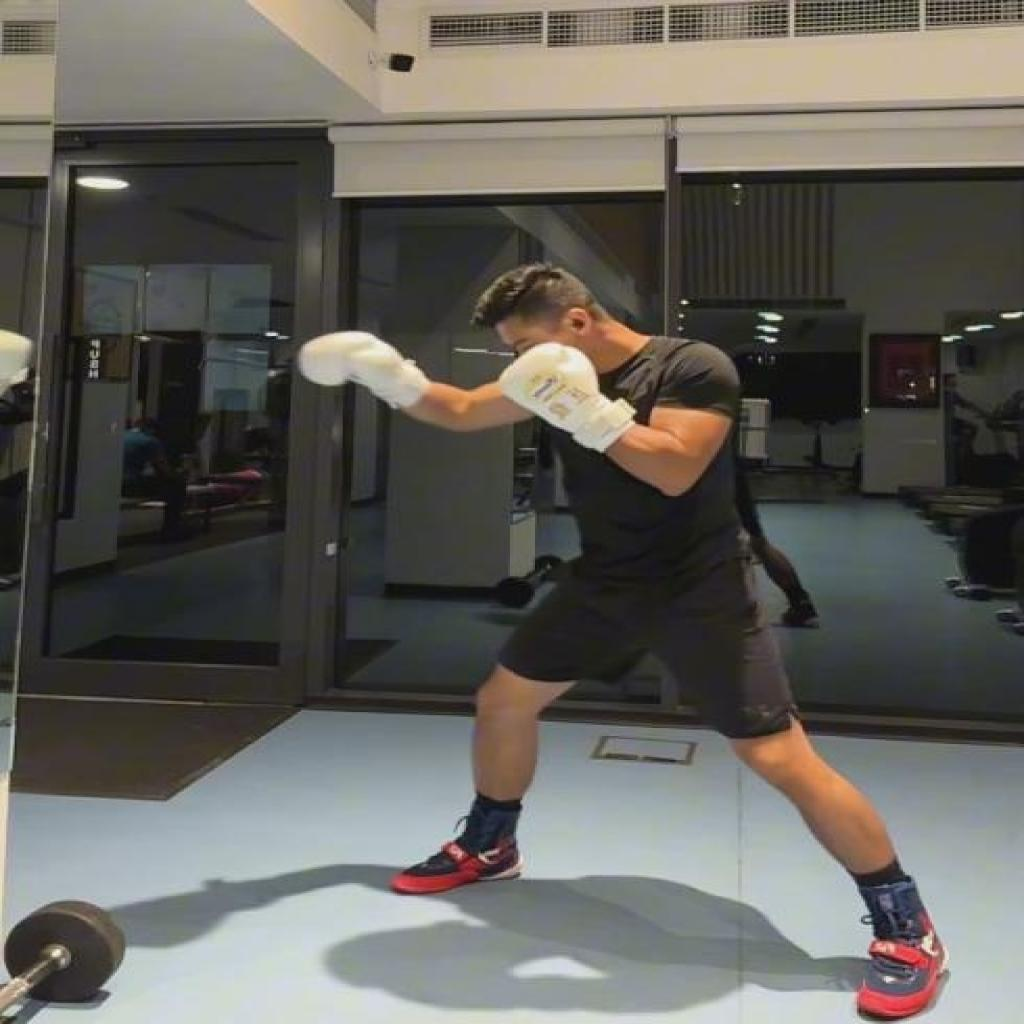jab: (295, 261, 953, 1024)
